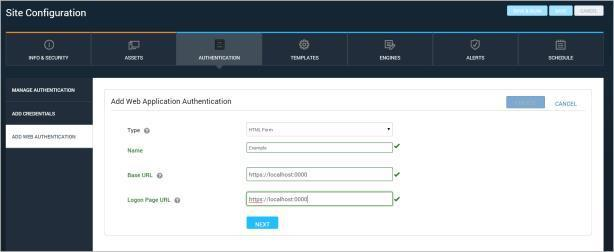button: (6, 78, 94, 101), (7, 102, 94, 125), (7, 126, 94, 149), (507, 97, 547, 109), (248, 217, 279, 230), (509, 7, 548, 16), (575, 6, 604, 17), (551, 6, 574, 17)
dropdown: (248, 122, 393, 137)
icon: (555, 40, 571, 52), (129, 39, 142, 53), (384, 40, 398, 52), (216, 39, 228, 52), (299, 40, 312, 52), (470, 40, 482, 53), (44, 41, 57, 52), (174, 197, 182, 207), (394, 197, 402, 205), (158, 172, 164, 180), (395, 171, 401, 179), (145, 128, 151, 135), (395, 144, 401, 150)
input: (249, 168, 394, 182), (249, 192, 392, 206), (247, 142, 394, 153)
label: (110, 97, 234, 109), (7, 6, 93, 21), (26, 54, 72, 64), (126, 196, 172, 206), (198, 56, 242, 63), (291, 55, 321, 63), (127, 145, 147, 157), (554, 100, 580, 109), (127, 172, 155, 180), (125, 126, 144, 137), (549, 56, 575, 62), (380, 56, 402, 62), (125, 56, 145, 61), (467, 57, 486, 62)
